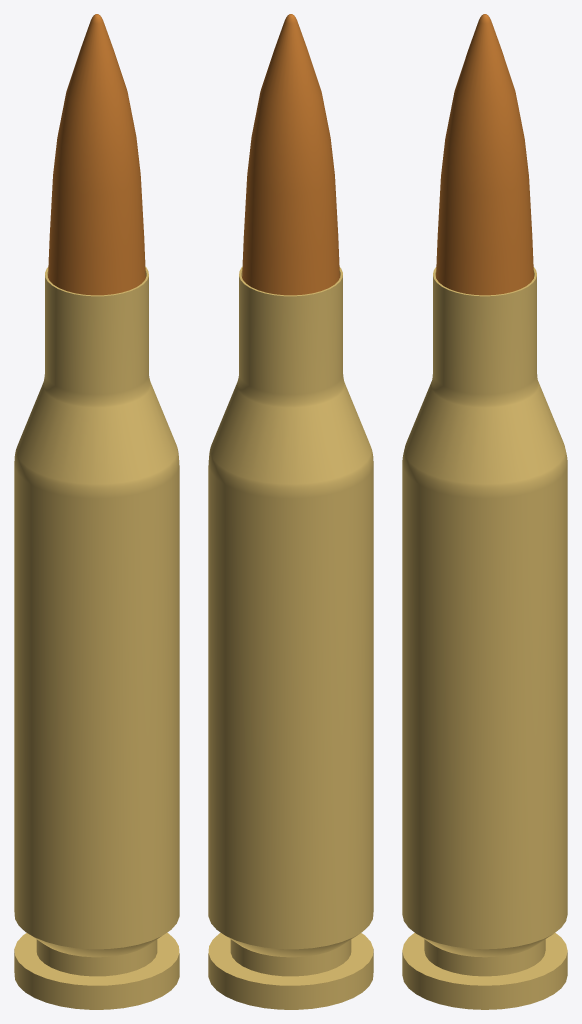
Rendered from bullet.fbx.
The picture shows the model from 3 angles, left to right: view 1: azimuth 30°, elevation 25°; view 2: azimuth 150°, elevation 25°; view 3: azimuth 270°, elevation 25°; orthographic projection.
Visible parts, largest first — view 1: Casing, Bullet; view 2: Casing, Bullet; view 3: Casing, Bullet.
Boxes of the visible parts, <box> form: Casing: <box>14,266,179,1009</box>; Bullet: <box>48,14,145,295</box>; Casing: <box>208,266,373,1009</box>; Bullet: <box>242,14,339,295</box>; Casing: <box>402,267,567,1009</box>; Bullet: <box>436,14,533,295</box>.
Size of the model in its own units: 2.15 by 13.78 by 2.15.
